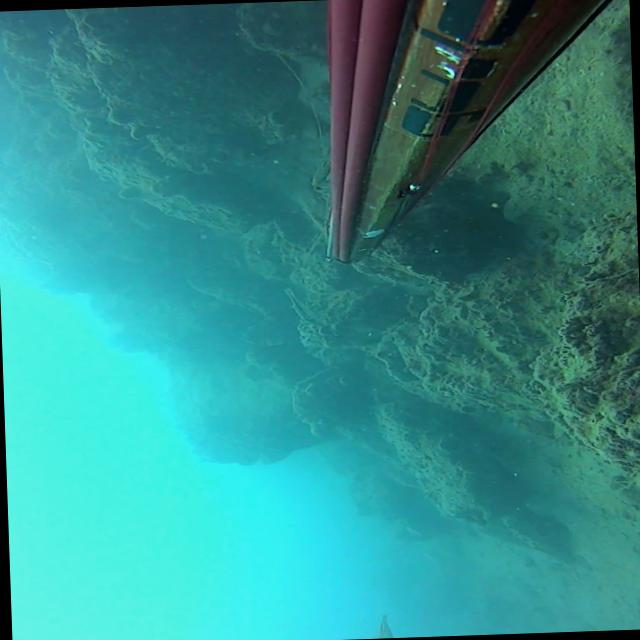Balon Baligi: (283, 286, 322, 326), (313, 160, 330, 193), (375, 614, 392, 638)
